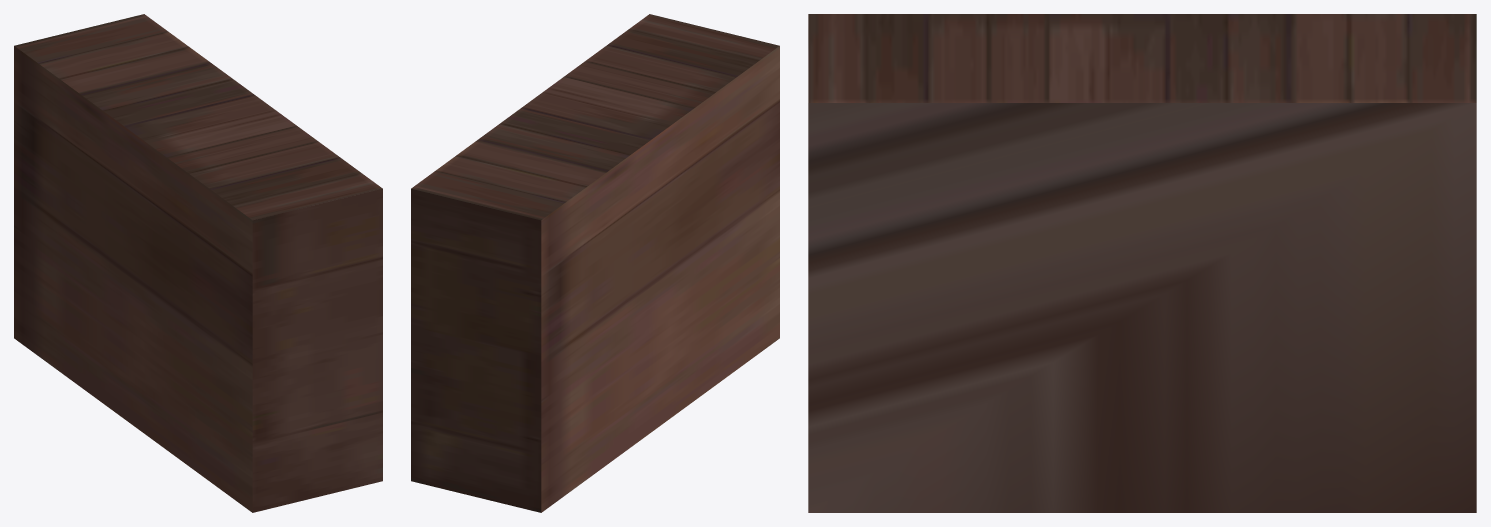
File: woodBlock2 (49).fbx
3 views of the same model, side by side, from view 1: azimuth 30°, elevation 25°; view 2: azimuth 150°, elevation 25°; view 3: azimuth 270°, elevation 25° (orthographic). The views are drawn at different scales.
Visible parts, largest first — view 1: woodBlock2 (49); view 2: woodBlock2 (49); view 3: woodBlock2 (49).
Part boxes in pixels (x1,y1,x2,y2): woodBlock2 (49): [14, 14, 382, 512]; woodBlock2 (49): [411, 14, 779, 512]; woodBlock2 (49): [808, 14, 1476, 512].
Bounding box in the file's own units: 0.7409 × 1.59 × 2.35.
